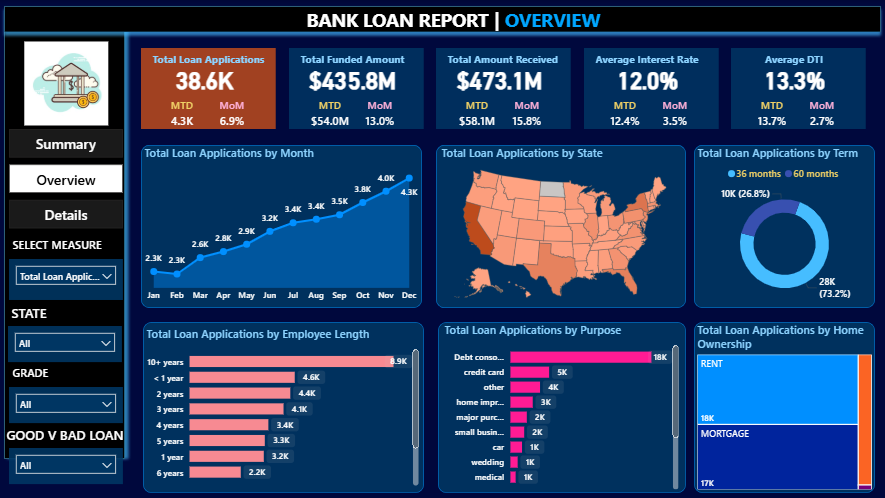

The dashboard page shown, as its layout file describes it:
{"tool":"powerbi","page":{"name":"Overview","canvas":[1280,720],"ordinal":1},"visuals":[{"type":"shape","box":[205.9,69.1,194.4,116.6],"z":0,"group":"g1"},{"type":"shape","box":[418.3,69.1,194.4,116.6],"z":0,"group":"g2"},{"type":"shape","box":[630.7,69.1,194.4,116.6],"z":0,"group":"g3"},{"type":"shape","box":[843.1,69.1,194.4,116.6],"z":0,"group":"g4"},{"type":"shape","box":[1055.5,69.1,194.4,116.6],"z":0,"group":"g5"},{"type":"textbox","box":[14.4,265,164.2,36],"z":0},{"type":"slicer","fields":{"Values":["Bank_Loan_Data.address_state"]},"box":[14.4,469.4,164.2,51.8],"z":0,"group":"g6"},{"type":"slicer","fields":{"Values":["Bank_Loan_Data.grade"]},"box":[15.8,557.3,164.2,51.8],"z":0,"group":"g7"},{"type":"textbox","box":[7.2,609.1,178.6,36],"z":0,"group":"g8"},{"type":"shape","box":[0,4.3,191.5,665.3],"z":1000},{"type":"card","fields":{"Values":["Bank_Loan_Data.Total Loan Applications"]},"box":[191.5,86.4,211.7,54.7],"z":1000,"group":"g1"},{"type":"card","fields":{"Values":["Bank_Loan_Data.Total Funded Amount"]},"box":[403.9,86.4,211.7,54.7],"z":1000,"group":"g2"},{"type":"card","fields":{"Values":["Bank_Loan_Data.Total Amount Received"]},"box":[616.3,86.4,211.7,54.7],"z":1000,"group":"g3"},{"type":"card","fields":{"Values":["Bank_Loan_Data.Avg Interest Rate"]},"box":[828.7,86.4,211.7,54.7],"z":1000,"group":"g4"},{"type":"card","fields":{"Values":["Bank_Loan_Data.Avg DTI"]},"box":[1041.1,86.4,211.7,54.7],"z":1000,"group":"g5"},{"type":"textbox","box":[14.4,433.4,82.1,36],"z":1000,"group":"g6"},{"type":"textbox","box":[15.8,521.3,82.1,36],"z":1000,"group":"g7"},{"type":"slicer","fields":{"Values":["Bank_Loan_Data.Good v Bad Loan"]},"box":[16.5,645,164.2,51.8],"z":1000,"group":"g8"},{"type":"shape","box":[0,0,1280.2,55],"z":2000},{"type":"textbox","box":[217.4,69.1,207.4,36],"z":2000,"group":"g1"},{"type":"textbox","box":[429.8,69.1,207.4,36],"z":2000,"group":"g2"},{"type":"textbox","box":[642.2,69.1,207.4,36],"z":2000,"group":"g3"},{"type":"textbox","box":[854.6,69.1,207.4,36],"z":2000,"group":"g4"},{"type":"textbox","box":[1067,69.1,207.4,36],"z":2000,"group":"g5"},{"type":"textbox","box":[15.8,337,154.1,36],"z":2000,"group":"g9"},{"type":"card","title":"MTD","fields":{"Values":["Bank_Loan_Data.MTD Loan Applications"]},"box":[226.1,141.1,77.8,44.6],"z":3000,"group":"g1"},{"type":"card","title":"MTD","fields":{"Values":["Bank_Loan_Data.MTD Funded Amount"]},"box":[438.5,141.1,77.8,44.6],"z":3000,"group":"g2"},{"type":"card","title":"MTD","fields":{"Values":["Bank_Loan_Data.MTD Total Amount Received"]},"box":[650.9,141.1,77.8,44.6],"z":3000,"group":"g3"},{"type":"card","title":"MTD","fields":{"Values":["Bank_Loan_Data.MTD Avg Int Rate"]},"box":[863.3,141.1,77.8,44.6],"z":3000,"group":"g4"},{"type":"card","title":"MTD","fields":{"Values":["Bank_Loan_Data.MTD Avg DTI"]},"box":[1075.7,141.1,77.8,44.6],"z":3000,"group":"g5"},{"type":"shape","box":[205.9,208.8,404.6,234.7],"z":3000},{"type":"textbox","box":[439.2,4.3,447.8,50.4],"z":4000},{"type":"card","title":"MoM","fields":{"Values":["Bank_Loan_Data.MoM Loan Applications"]},"box":[298.1,141.1,77.8,44.6],"z":4000,"group":"g1"},{"type":"card","title":"MoM","fields":{"Values":["Bank_Loan_Data.MoM Total Funded Amount"]},"box":[510.5,141.1,77.8,44.6],"z":4000,"group":"g2"},{"type":"card","title":"MoM","fields":{"Values":["Bank_Loan_Data.MoM Total Amount Received"]},"box":[722.9,141.1,77.8,44.6],"z":4000,"group":"g3"},{"type":"card","title":"MoM","fields":{"Values":["Bank_Loan_Data.MoM Avg Int Rate"]},"box":[935.3,141.1,77.8,44.6],"z":4000,"group":"g4"},{"type":"card","title":"MoM","fields":{"Values":["Bank_Loan_Data.MoM Avg DTI"]},"box":[1147.7,141.1,77.8,44.6],"z":4000,"group":"g5"},{"type":"group","id":"g1","title":"Group 1","box":[191.5,69.1,233.3,116.6],"z":5000},{"type":"group","id":"g2","title":"Group 1","box":[403.9,69.1,233.3,116.6],"z":6000},{"type":"group","id":"g3","title":"Group 1","box":[616.3,69.1,233.3,116.6],"z":7000},{"type":"group","id":"g4","title":"Group 1","box":[828.7,69.1,233.3,116.6],"z":8000},{"type":"group","id":"g5","title":"Group 1","box":[1041.1,69.1,233.3,116.6],"z":9000},{"type":"group","id":"g6","title":"Group 2","box":[14.4,433.4,164.2,87.8],"z":10000},{"type":"group","id":"g7","title":"Group 3","box":[15.8,521.3,164.2,87.8],"z":11000},{"type":"group","id":"g8","title":"Group 5","box":[7.2,609.1,178.6,87.8],"z":12000},{"type":"areaChart","fields":{"Y":["Bank_Loan_Data.Total Loan Applications"],"Category":["Date Table.Month"]},"box":[205.9,208.8,404.6,234.7],"z":13000},{"type":"shape","box":[630.7,208.8,360,234.7],"z":14000},{"type":"shapeMap","fields":{"Value":["Bank_Loan_Data.Total Loan Applications"],"Category":["Bank_Loan_Data.address_state"]},"box":[633.6,208.8,352.8,234.7],"z":15000},{"type":"slicer","fields":{"Values":["Select Measure.Select Measure"]},"box":[15.8,373,164.2,59],"z":15000,"group":"g9"},{"type":"shape","box":[1002.2,208.8,260.6,234.7],"z":16000},{"type":"donutChart","fields":{"Y":["Bank_Loan_Data.Total Loan Applications"],"Category":["Bank_Loan_Data.term"]},"box":[1002.2,208.8,260.6,234.7],"z":17000},{"type":"shape","box":[208.8,463.7,404.6,246.2],"z":18000},{"type":"shape","box":[633.6,463.7,357.1,246.2],"z":19000},{"type":"barChart","fields":{"Y":["Bank_Loan_Data.Total Loan Applications"],"Category":["Bank_Loan_Data.emp_length"]},"box":[208.8,469.4,401.8,234.7],"z":20000},{"type":"barChart","fields":{"Y":["Bank_Loan_Data.Total Loan Applications"],"Category":["Bank_Loan_Data.purpose"]},"box":[637.9,463.7,347,246.2],"z":21000},{"type":"shape","box":[1002.2,463.7,260.6,246.2],"z":22000},{"type":"treemap","fields":{"Values":["Bank_Loan_Data.Total Loan Applications"],"Group":["Bank_Loan_Data.home_ownership"]},"box":[1002.2,463.7,260.6,246.2],"z":23000},{"type":"group","id":"g9","title":"Group 4","box":[15.8,337,164.2,95],"z":24000},{"type":"pageNavigator","box":[15.8,185.8,164.2,145.4],"z":25000},{"type":"image","box":[15.8,54.7,164.2,131],"z":26000}]}

Visuals, with their boxes in screenshot pixels (x1, y1, x2, y2), scaled from the page's 1280x720 canvas onto the 885x498 screenshot:
shape: (142, 48, 277, 128)
shape: (289, 48, 424, 128)
shape: (436, 48, 570, 128)
shape: (583, 48, 717, 128)
shape: (730, 48, 864, 128)
textbox: (10, 183, 123, 208)
slicer - Bank_Loan_Data.address_state: (10, 325, 123, 360)
slicer - Bank_Loan_Data.grade: (11, 385, 124, 421)
textbox: (5, 421, 128, 446)
shape: (0, 3, 132, 463)
card - Bank_Loan_Data.Total Loan Applications: (132, 60, 279, 98)
card - Bank_Loan_Data.Total Funded Amount: (279, 60, 426, 98)
card - Bank_Loan_Data.Total Amount Received: (426, 60, 572, 98)
card - Bank_Loan_Data.Avg Interest Rate: (573, 60, 719, 98)
card - Bank_Loan_Data.Avg DTI: (720, 60, 866, 98)
textbox: (10, 300, 67, 325)
textbox: (11, 361, 68, 385)
slicer - Bank_Loan_Data.Good v Bad Loan: (11, 446, 125, 482)
shape: (0, 0, 884, 38)
textbox: (150, 48, 294, 73)
textbox: (297, 48, 441, 73)
textbox: (444, 48, 587, 73)
textbox: (591, 48, 734, 73)
textbox: (738, 48, 881, 73)
textbox: (11, 233, 117, 258)
"MTD" card: (156, 98, 210, 128)
"MTD" card: (303, 98, 357, 128)
"MTD" card: (450, 98, 504, 128)
"MTD" card: (597, 98, 651, 128)
"MTD" card: (744, 98, 798, 128)
shape: (142, 144, 422, 307)
textbox: (304, 3, 613, 38)
"MoM" card: (206, 98, 260, 128)
"MoM" card: (353, 98, 407, 128)
"MoM" card: (500, 98, 554, 128)
"MoM" card: (647, 98, 700, 128)
"MoM" card: (794, 98, 847, 128)
"Group 1" group: (132, 48, 294, 128)
"Group 1" group: (279, 48, 441, 128)
"Group 1" group: (426, 48, 587, 128)
"Group 1" group: (573, 48, 734, 128)
"Group 1" group: (720, 48, 881, 128)
"Group 2" group: (10, 300, 123, 360)
"Group 3" group: (11, 361, 124, 421)
"Group 5" group: (5, 421, 128, 482)
areaChart - Bank_Loan_Data.Total Loan Applications x Date Table.Month: (142, 144, 422, 307)
shape: (436, 144, 685, 307)
shapeMap - Bank_Loan_Data.Total Loan Applications x Bank_Loan_Data.address_state: (438, 144, 682, 307)
slicer - Select Measure.Select Measure: (11, 258, 124, 299)
shape: (693, 144, 873, 307)
donutChart - Bank_Loan_Data.Total Loan Applications x Bank_Loan_Data.term: (693, 144, 873, 307)
shape: (144, 321, 424, 491)
shape: (438, 321, 685, 491)
barChart - Bank_Loan_Data.Total Loan Applications x Bank_Loan_Data.emp_length: (144, 325, 422, 487)
barChart - Bank_Loan_Data.Total Loan Applications x Bank_Loan_Data.purpose: (441, 321, 681, 491)
shape: (693, 321, 873, 491)
treemap - Bank_Loan_Data.Total Loan Applications x Bank_Loan_Data.home_ownership: (693, 321, 873, 491)
"Group 4" group: (11, 233, 124, 299)
pageNavigator: (11, 129, 124, 229)
image: (11, 38, 124, 128)
